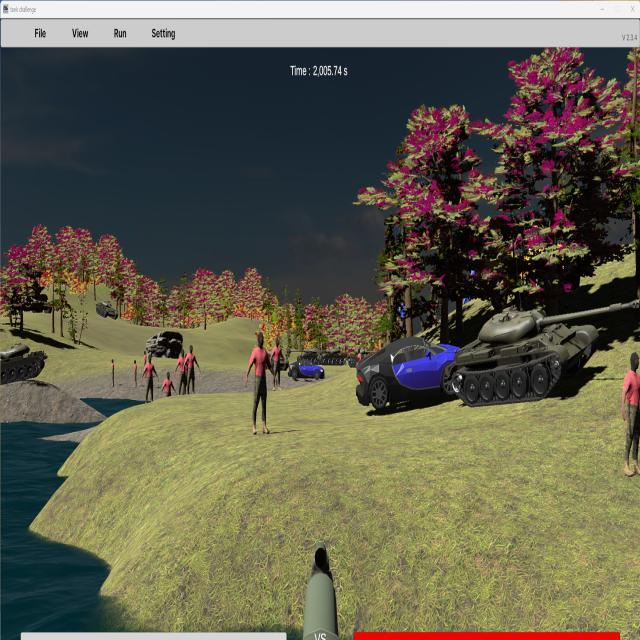Human: (246, 333, 275, 433), (622, 353, 640, 478), (184, 345, 201, 400), (142, 353, 159, 408), (270, 337, 285, 390), (175, 348, 190, 401)
Tank: (448, 297, 640, 409), (0, 342, 48, 386), (95, 298, 119, 319)
car: (356, 339, 469, 411), (288, 356, 325, 381)
